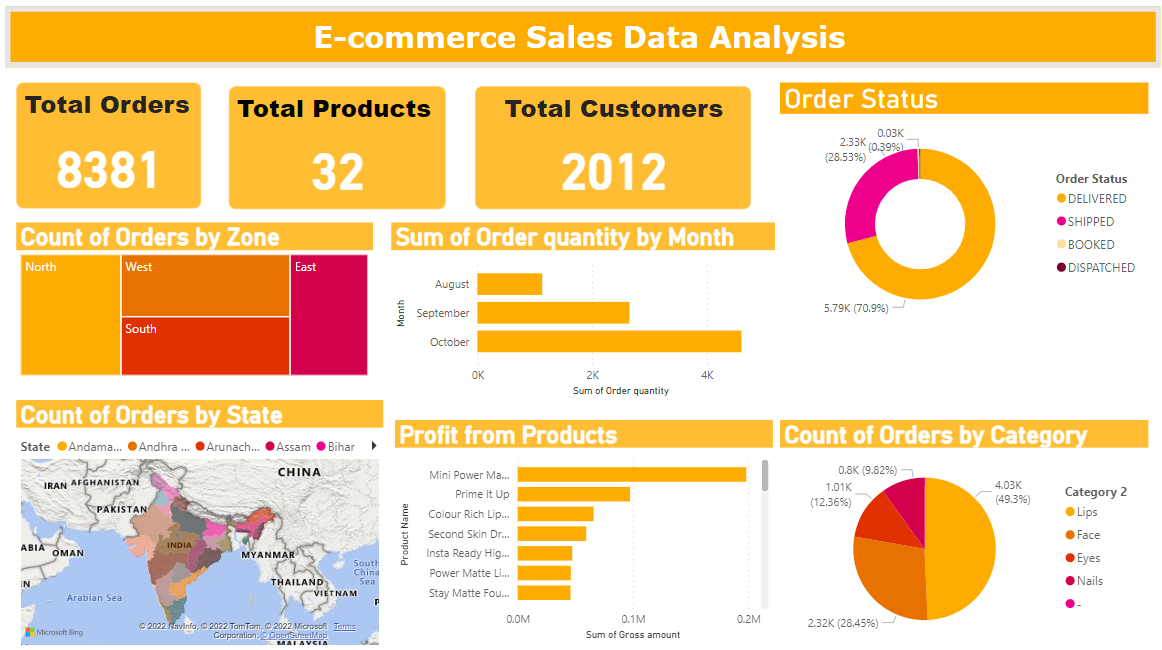

This screenshot's page, from the dashboard's own definition file:
{"tool":"powerbi","page":{"name":"Page 1","canvas":[1280,720],"ordinal":0},"visuals":[{"type":"shape","box":[5.7,12.9,1270,67.1],"z":0},{"type":"textbox","box":[92,22,1089.1,48.1],"z":1000},{"type":"filledMap","title":"Count of Orders by State","fields":{"Category":["Ecomm_Customer_data.State"],"Series":["Ecomm_Customer_data.State"]},"box":[18.3,445,403.3,275],"z":2000},{"type":"barChart","fields":{"Category":["Ecomm_Customer_data.Date.Variation.Date Hierarchy.Month"],"Y":["Sum(Ecomm_Customer_data.Order quantity)"]},"box":[430,250,421.7,195],"z":3000},{"type":"donutChart","title":"Order Status","fields":{"Category":["Ecomm_Customer_data.Order Status"],"Y":["CountNonNull(Ecomm_Customer_data.Order Id)"]},"box":[856.7,96.7,405,276.7],"z":4000},{"type":"clusteredBarChart","title":"Profit from Products","fields":{"Category":["Ecomm_Customer_data.Product Name"],"Y":["Sum(Ecomm_Customer_data.Gross amount)"]},"box":[433.3,466.7,415,246.7],"z":5000},{"type":"card","title":"Total Orders","fields":{"Values":["Sum(Ecomm_Customer_data.Order quantity)"]},"box":[18.3,96.7,203.3,138.3],"z":6000},{"type":"card","title":"Total Customers","fields":{"Values":["Count(Ecomm_Customer_data.Customer Code)"]},"box":[521.7,100,303.3,135],"z":7000},{"type":"card","title":"Total Products","fields":{"Values":["Count(Ecomm_Customer_data.Product Name)"]},"box":[251.7,100,238.3,135],"z":8000},{"type":"treemap","title":"Count of Orders by Zone","fields":{"Group":["Ecomm_Customer_data.Zone"],"Values":["CountNonNull(Ecomm_Customer_data.Order Id)"]},"box":[18.3,250,391.7,173.3],"z":9000},{"type":"pieChart","title":"Count of Orders by Category","fields":{"Category":["Ecomm_Customer_data.Category 2"],"Y":["CountNonNull(Ecomm_Customer_data.Order Id)"]},"box":[856.7,466.7,405,253.3],"z":10000}]}

Visuals, with their boxes in screenshot pixels (x1, y1, x2, y2), scaled from the page's 1280x720 canvas onto the 1162x650 screenshot:
shape: 5,12,1158,72
textbox: 84,20,1072,63
"Count of Orders by State" filledMap: 17,402,383,649
barChart - Ecomm_Customer_data.Date.Variation.Date Hierarchy.Month x Sum(Ecomm_Customer_data.Order quantity): 390,226,773,402
"Order Status" donutChart: 778,87,1145,337
"Profit from Products" clusteredBarChart: 393,421,770,644
"Total Orders" card: 17,87,201,212
"Total Customers" card: 474,90,749,212
"Total Products" card: 228,90,445,212
"Count of Orders by Zone" treemap: 17,226,372,382
"Count of Orders by Category" pieChart: 778,421,1145,649
